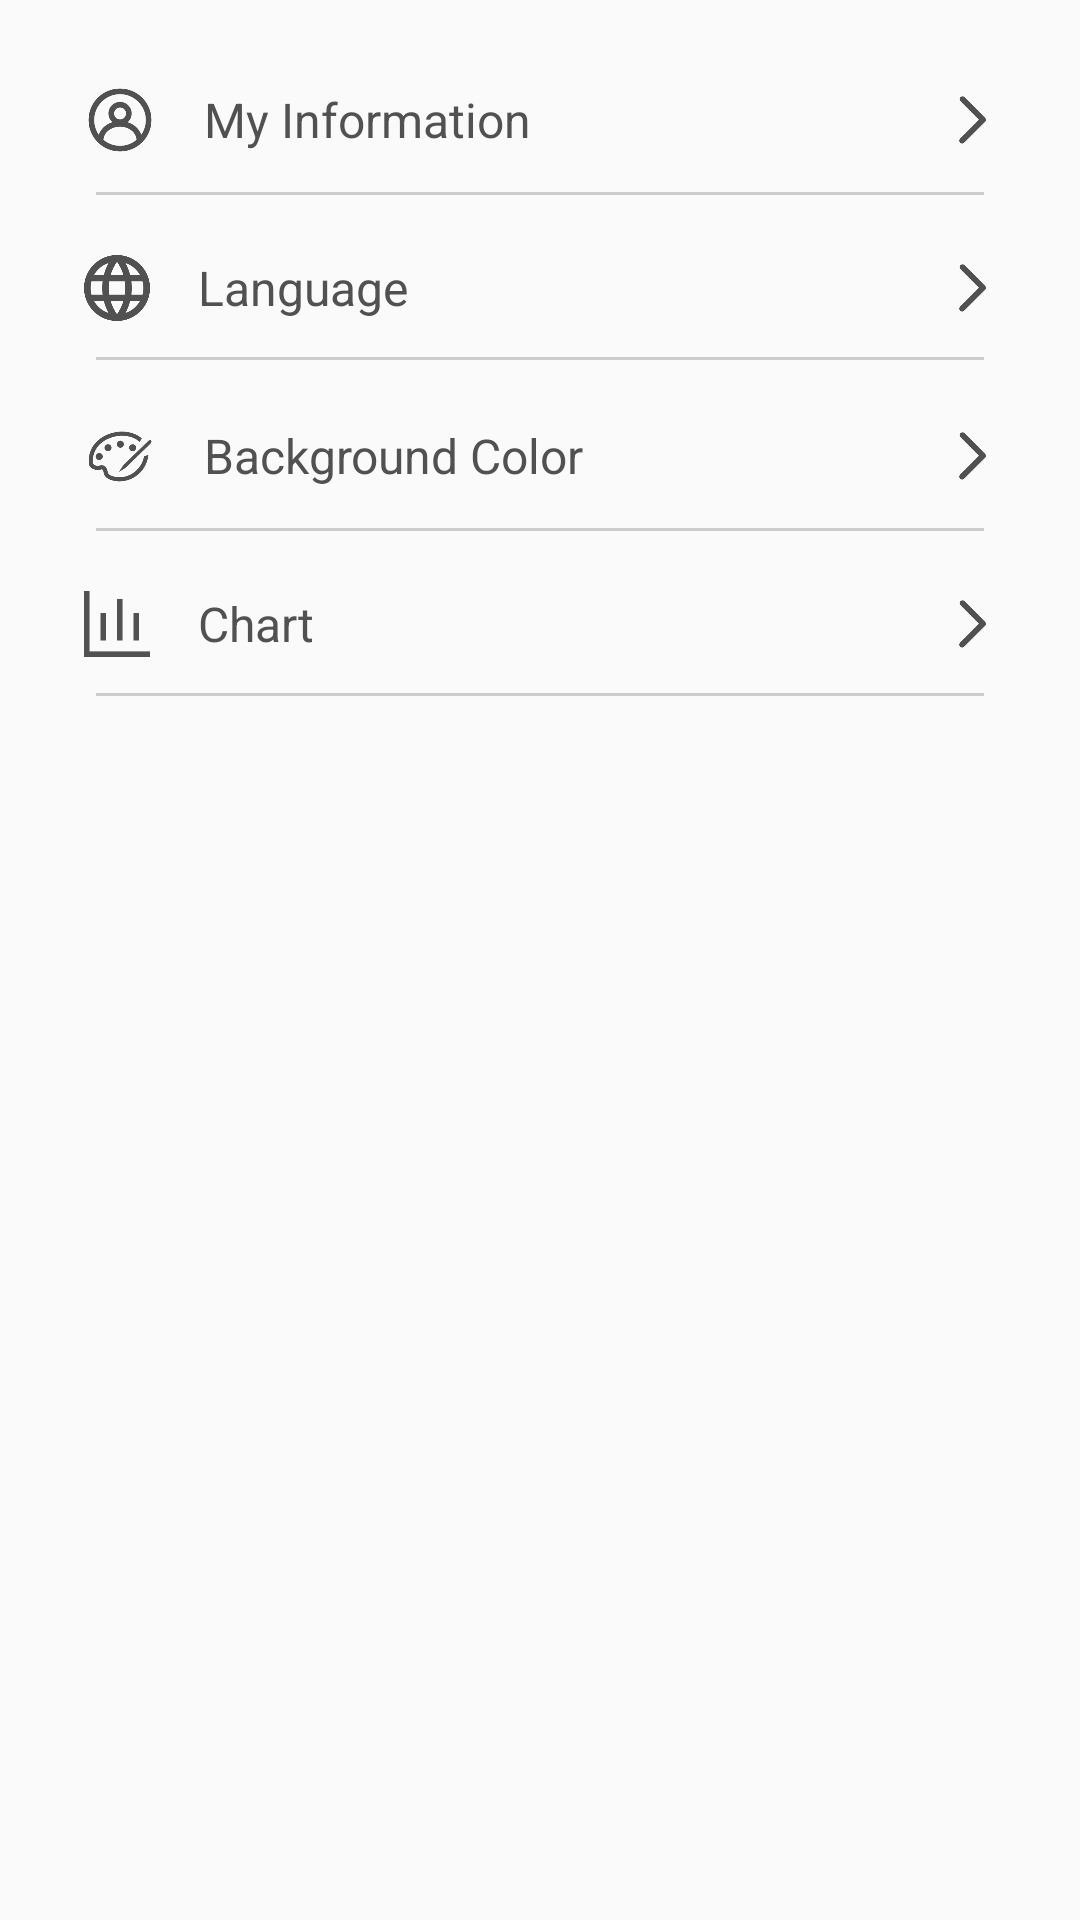

Named icons in this screenshot (1080 × 1920) and their bounding boxes, (x1, y1, x2, y2):
arrow right: (959, 96, 986, 144), (959, 264, 986, 312), (959, 432, 986, 480), (959, 600, 986, 648)
